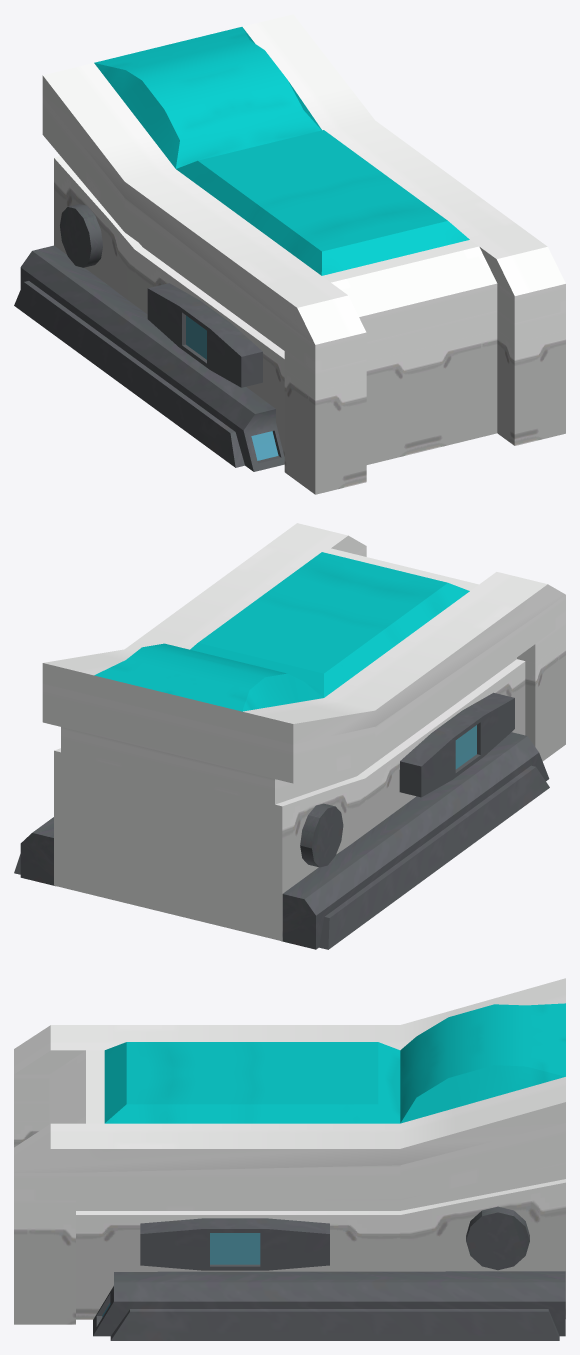
Rendered from mdlMedBed.fbx.
3 renders of one model, top to bottom at view 1: azimuth 30°, elevation 25°; view 2: azimuth 150°, elevation 25°; view 3: azimuth 270°, elevation 25°, orthographic.
Visible parts, largest first — view 1: Cube; view 2: Cube; view 3: Cube.
Boxes of the visible parts, <box> form: Cube: <box>14,14,565,494</box>; Cube: <box>14,523,565,949</box>; Cube: <box>14,978,565,1340</box>.
Bounding box in the file's own units: 2.72 × 1.86 × 4.08.
